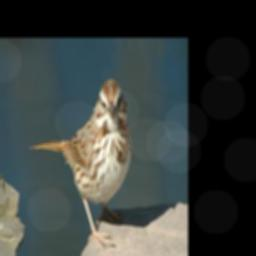Sparrow: (28, 77, 132, 246)
